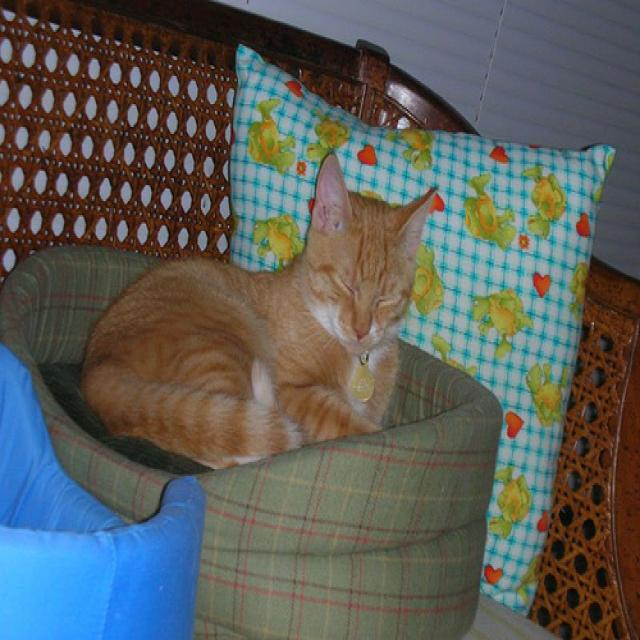left eye: (372, 291, 394, 310)
